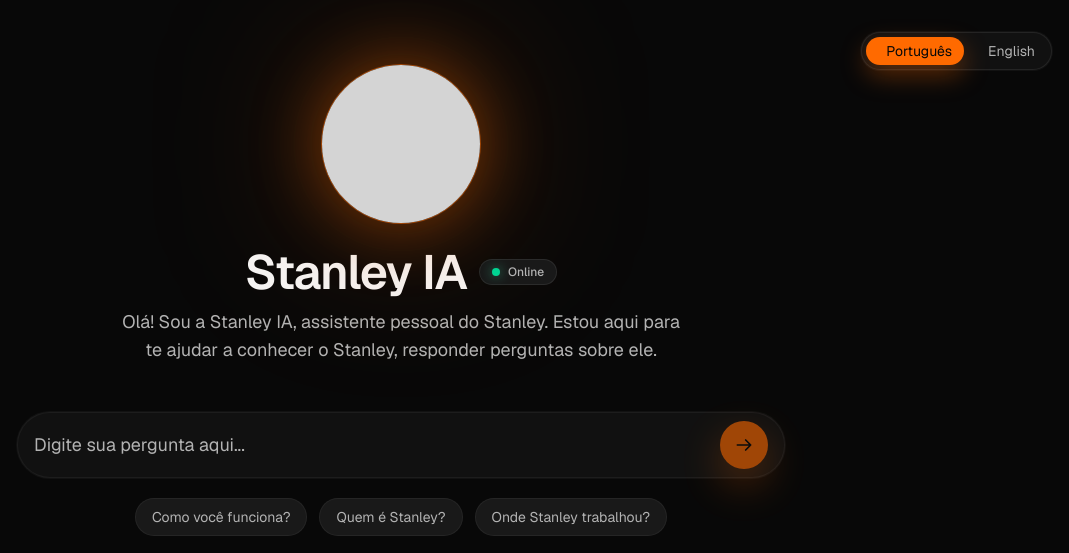
HomePage › exibe os prompts rápidos e permite preenchê-los
The width and height of the screenshot is (1069, 553).
Expected: the button "Quem é Stanley?" is shown, [320, 498, 463, 536]
Expected: the button "Onde Stanley trabalhou?" is shown, [475, 498, 667, 536]
Click the button "Como você funciona?". click: (221, 517)
box: [135, 498, 308, 536]
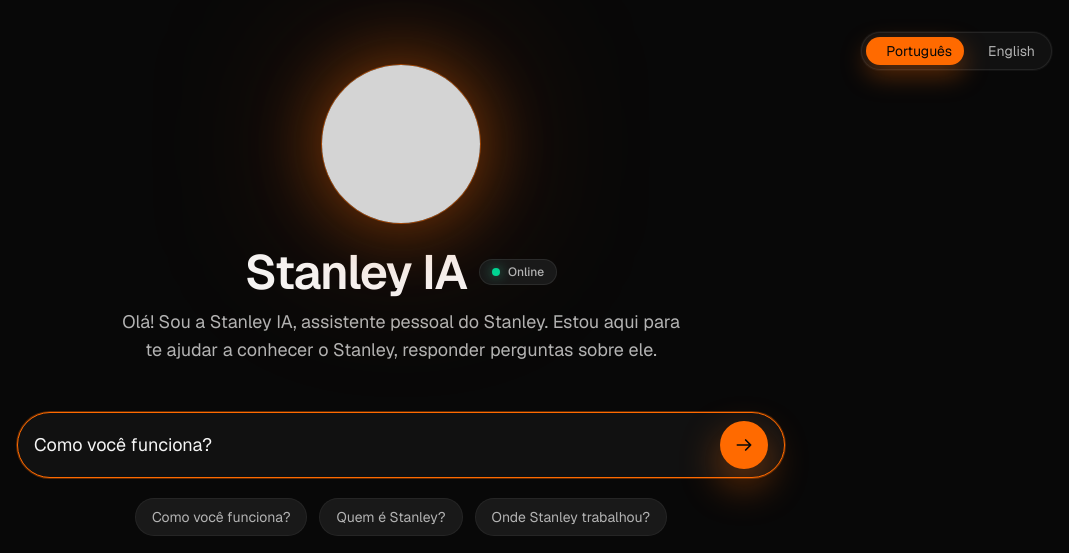
Expected: the field named "Digite sua pergunta" holds "Como você funciona?", [34, 431, 712, 459]
